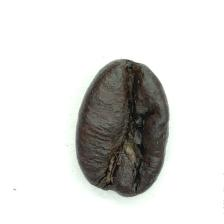NG: (113, 66, 158, 185)
